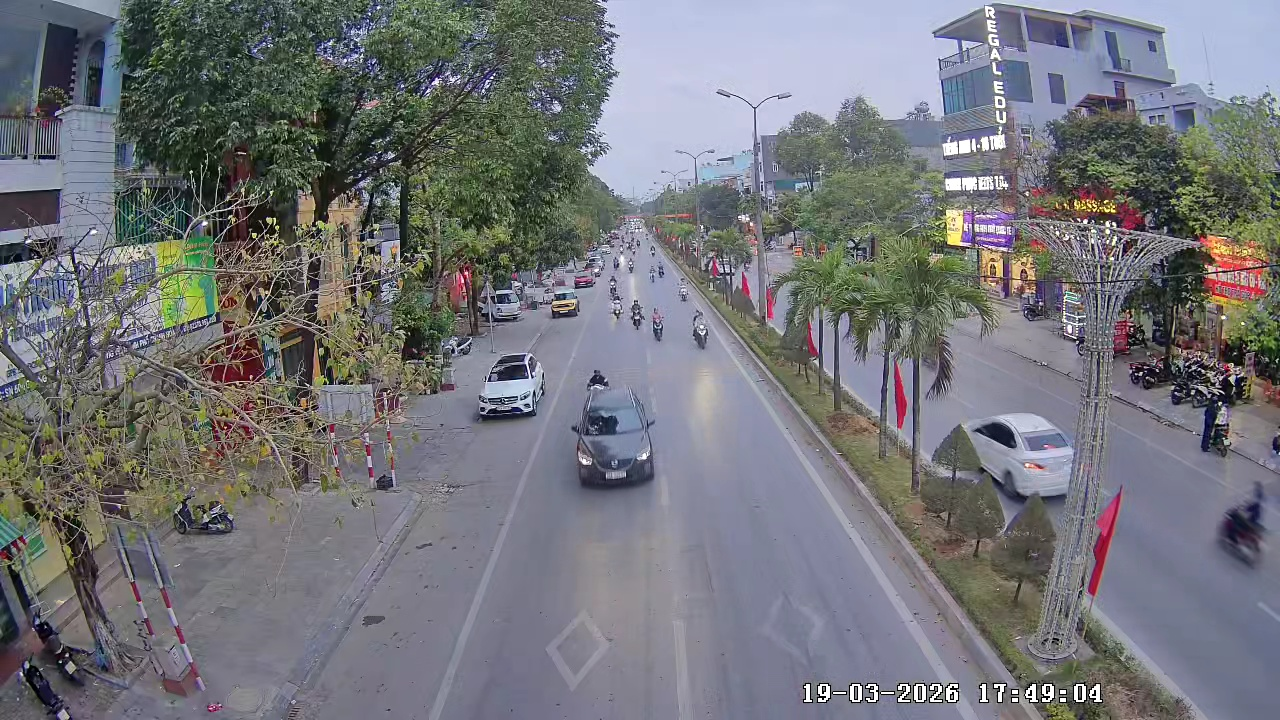car: (930, 411, 1078, 501), (569, 377, 658, 487), (475, 351, 547, 418), (550, 287, 580, 318)
motorbike: (1215, 479, 1271, 569), (1198, 393, 1234, 458), (691, 311, 710, 350), (650, 306, 666, 342), (629, 297, 645, 329), (607, 281, 621, 312), (678, 275, 692, 305), (608, 295, 622, 318), (646, 264, 660, 286)
